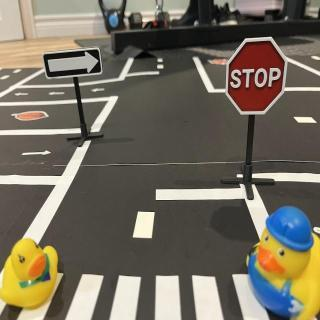duck_regular: (1, 237, 61, 313)
duck_specialty: (245, 204, 320, 320)
road_crosswalk: (14, 269, 277, 320)
road_oneway: (17, 148, 55, 160), (90, 87, 111, 95), (46, 91, 70, 98), (14, 91, 30, 99)
sign_oneway_right: (44, 46, 106, 80)
sign_stop: (226, 39, 288, 118)
